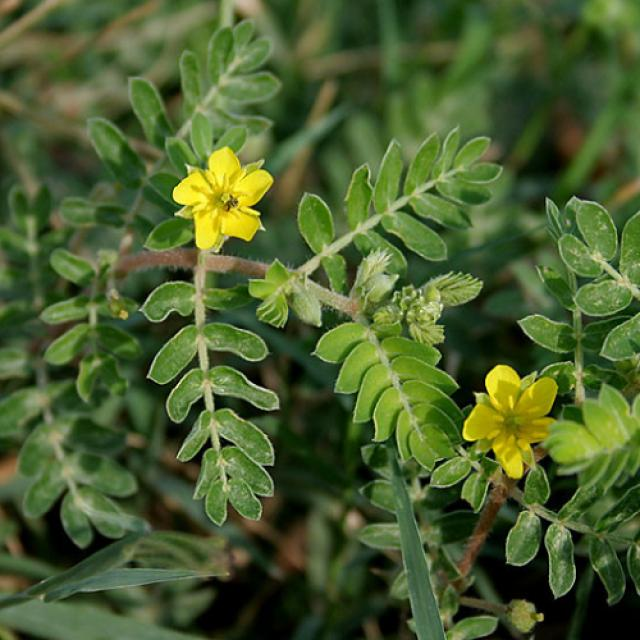Gokharu: (33, 0, 640, 612), (0, 111, 520, 579), (284, 193, 640, 552), (97, 92, 356, 342)
